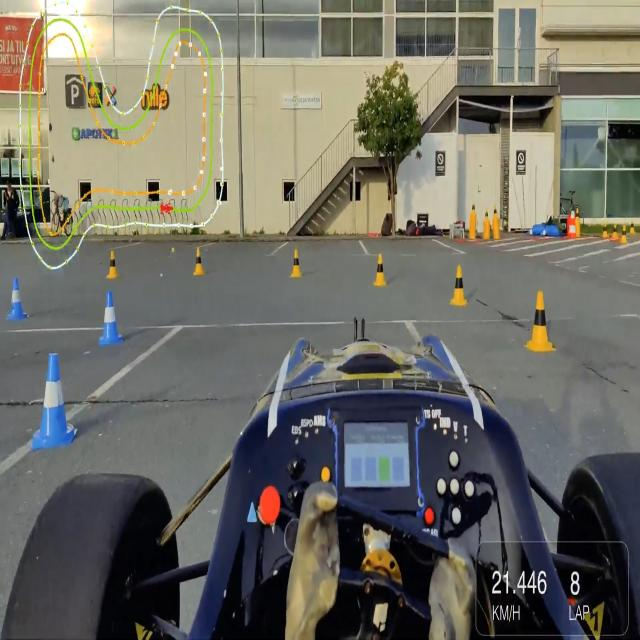blue_cone: (32, 352, 78, 448), (98, 290, 124, 346), (7, 276, 28, 321)
large_orange_cone: (567, 208, 578, 238)
yellow_cone: (526, 290, 556, 350), (450, 265, 468, 307), (374, 252, 387, 286), (106, 250, 120, 279), (290, 250, 302, 278), (194, 247, 204, 277), (621, 225, 628, 244), (612, 223, 619, 240), (574, 208, 581, 225), (492, 203, 498, 220), (602, 221, 608, 237), (630, 219, 636, 234), (484, 208, 490, 222), (471, 200, 476, 216)
